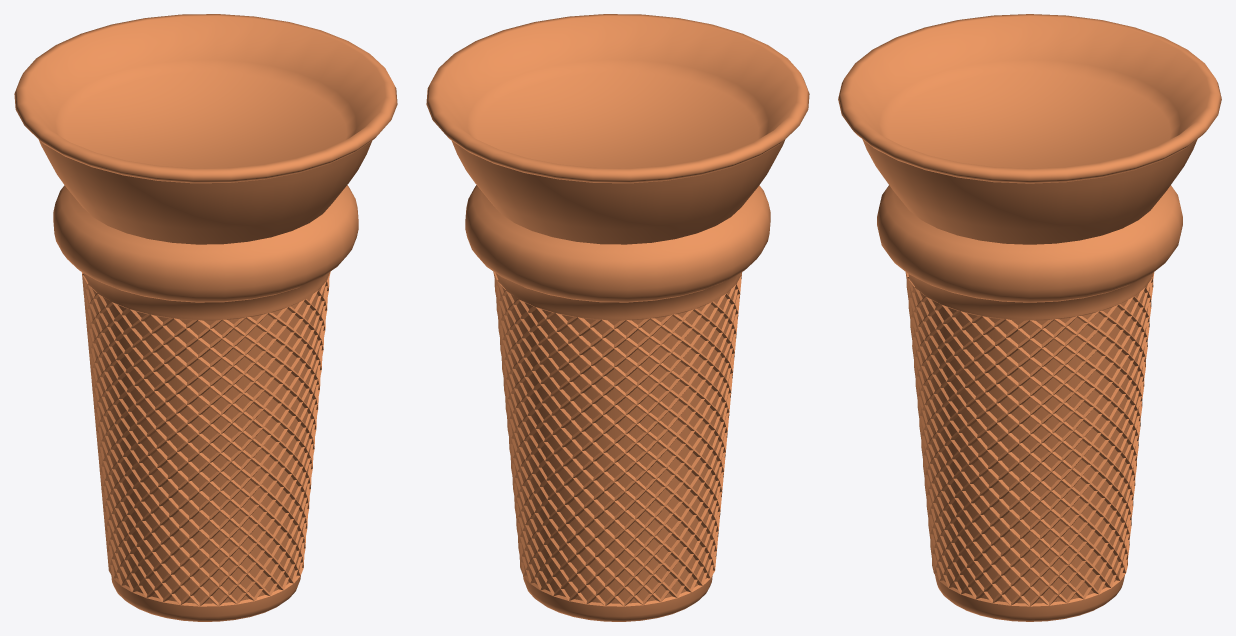
The model's file is Cono.fbx.
3 renders of one model, left to right at view 1: azimuth 30°, elevation 25°; view 2: azimuth 150°, elevation 25°; view 3: azimuth 270°, elevation 25°, orthographic.
Parts seen in each view (by area): view 1: Cono; view 2: Cono; view 3: Cono.
Boxes of the visible parts, box(x1,y1,x2,y2) form: Cono: box(14, 14, 397, 621); Cono: box(426, 14, 809, 621); Cono: box(838, 14, 1221, 621).
Size of the model in its own units: 307 by 436 by 307.
